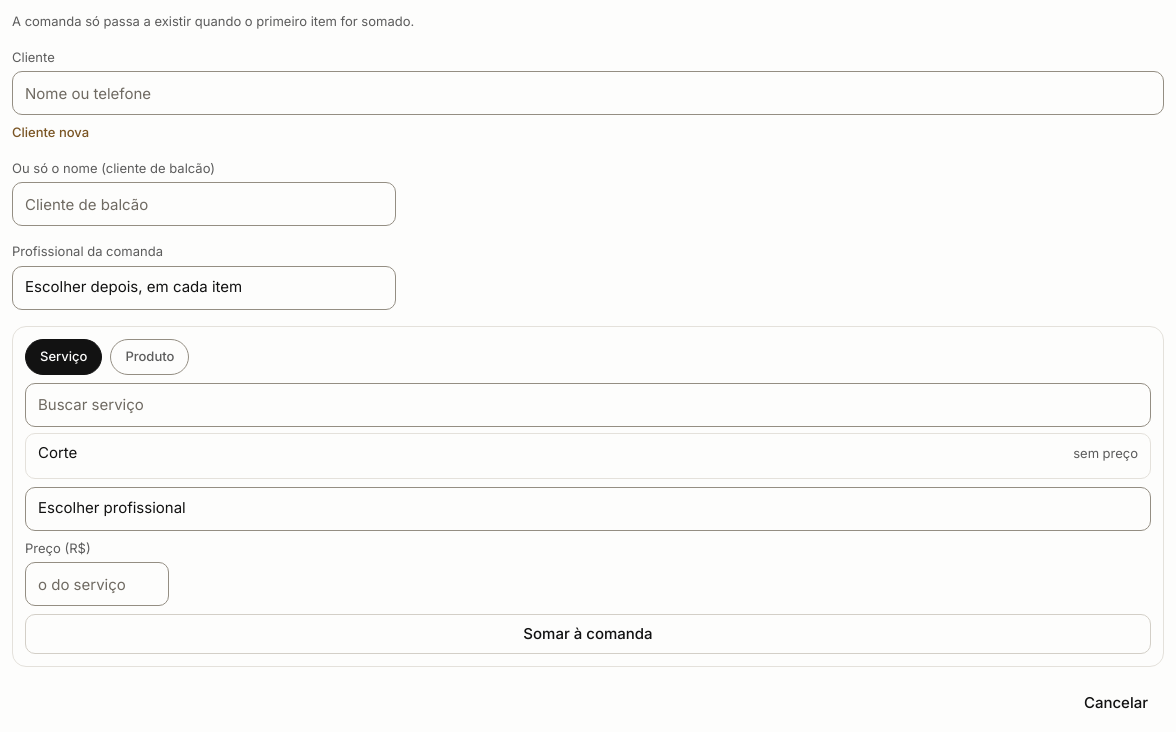
Scenario: serviço com preço digitado (revisão): o 'Motivo do preço' mostra 'obrigatório'
In the field labelled "Preço (R$)": (97, 584) [25, 562, 169, 606], type "50"
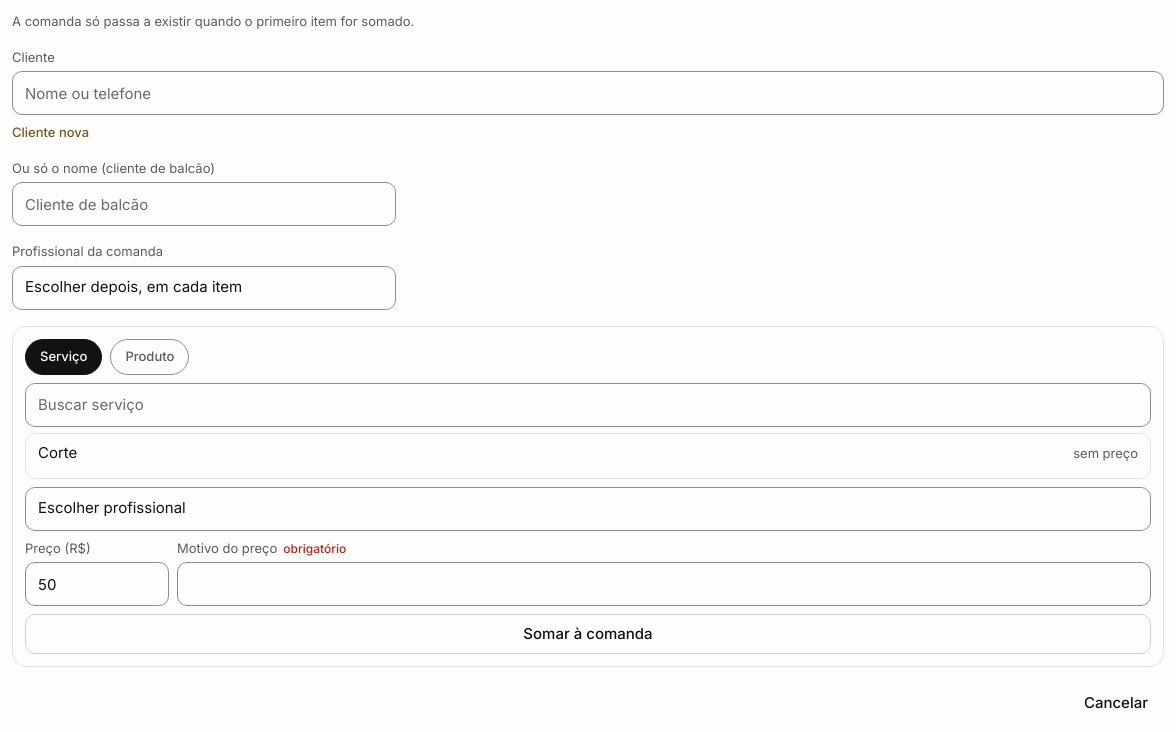
Expected: the text "obrigatório" is shown, [283, 540, 346, 558]
